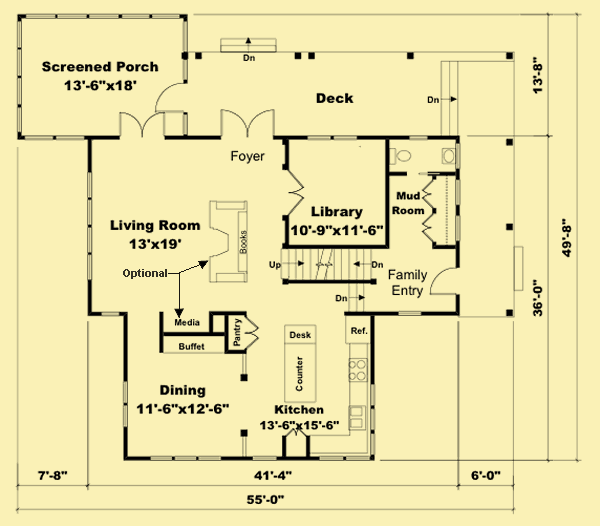door: (217, 106, 278, 142), (117, 109, 168, 143), (277, 165, 309, 219), (152, 78, 193, 115), (427, 265, 462, 297), (241, 313, 262, 352), (419, 173, 441, 208), (417, 210, 436, 246)
large sink: (385, 142, 413, 170)
small sink: (438, 145, 457, 167)
stairs: (266, 246, 387, 285), (425, 58, 468, 137), (217, 35, 282, 63), (332, 281, 370, 313)
windows: (21, 8, 183, 23), (12, 16, 26, 138), (83, 166, 97, 284), (146, 453, 230, 466), (314, 452, 372, 466), (119, 374, 133, 431), (452, 176, 464, 242), (305, 132, 361, 146), (22, 132, 88, 143), (392, 307, 425, 322), (250, 451, 280, 464)
